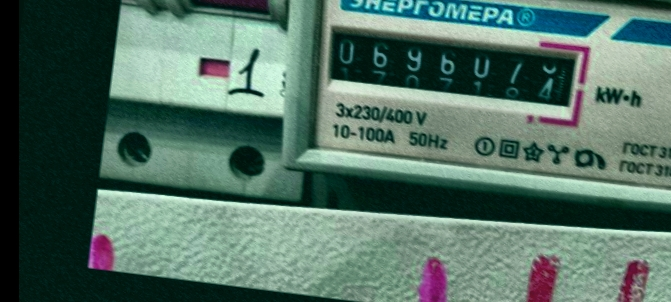0: (471, 49, 493, 81), (337, 36, 357, 66)
4: (536, 72, 556, 103)
6: (438, 46, 459, 77), (371, 39, 391, 69)
7: (505, 54, 527, 87)
9: (404, 44, 425, 74)
screen: (311, 10, 596, 127)
